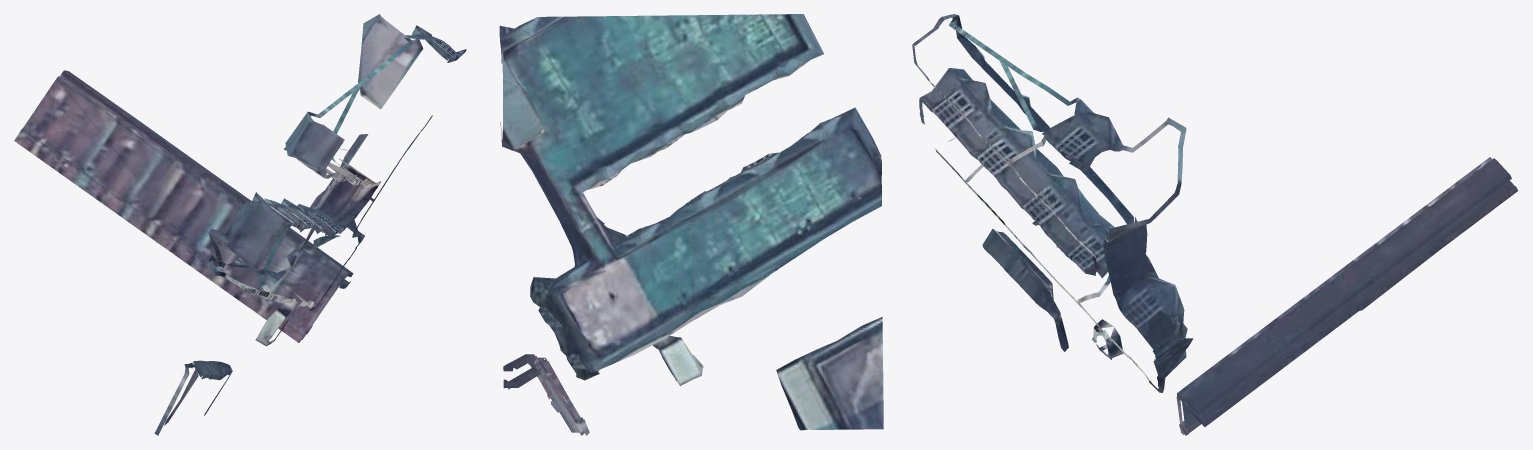
3 renders of one model, left to right at view 1: azimuth 30°, elevation 25°; view 2: azimuth 150°, elevation 25°; view 3: azimuth 270°, elevation 25°, orthographic. The views are drawn at different scales.
Size of the model in its own units: 38.87 by 36.72 by 54.59.
2 materials, 2 textured.
